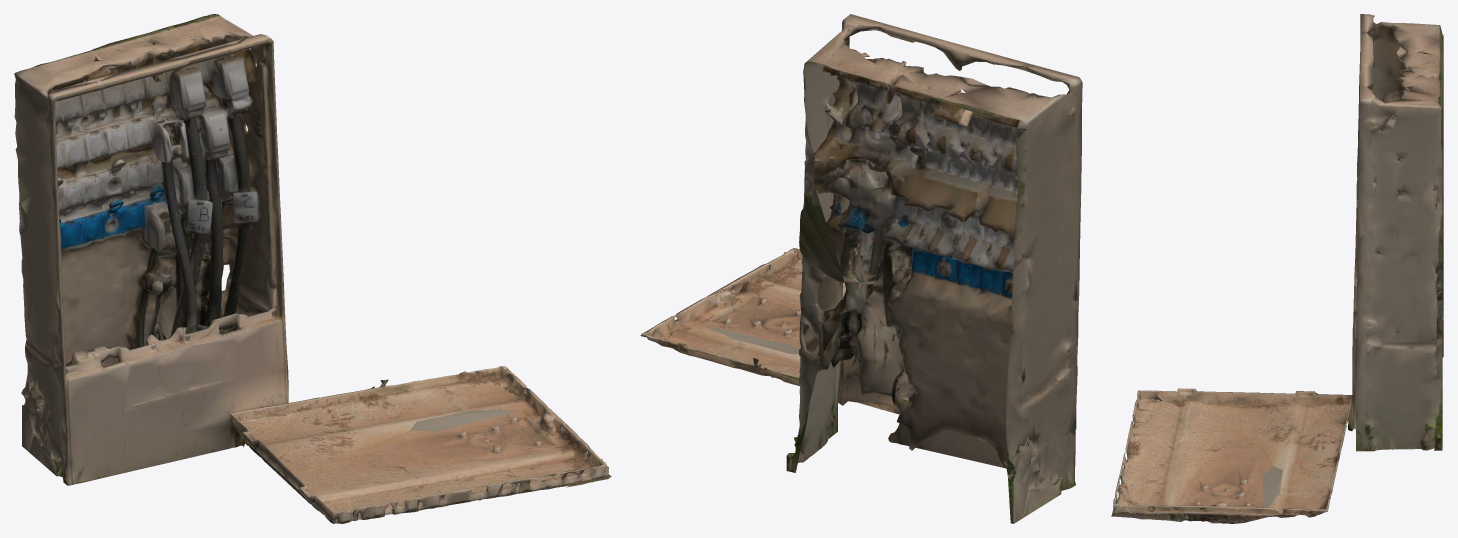
Rendered from electric_box_scan_no_11.glb.
The picture shows the model from 3 angles, left to right: view 1: azimuth 30°, elevation 25°; view 2: azimuth 150°, elevation 25°; view 3: azimuth 270°, elevation 25°; orthographic projection. The views are drawn at different scales.
Visible parts, largest first — view 1: Object_2; view 2: Object_2; view 3: Object_2.
Part boxes in pixels (x1,y1,x2,y2): Object_2: (14,14,611,523); Object_2: (640,14,1082,523); Object_2: (1111,14,1443,523).
Size of the model in its own units: 33.85 by 29.62 by 25.81.
1 material, 1 textured.
